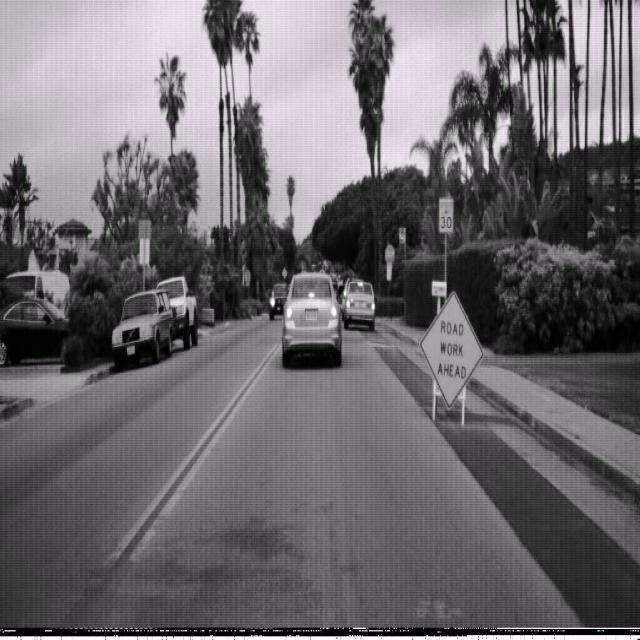speedLimit30: (438, 196, 454, 233)
